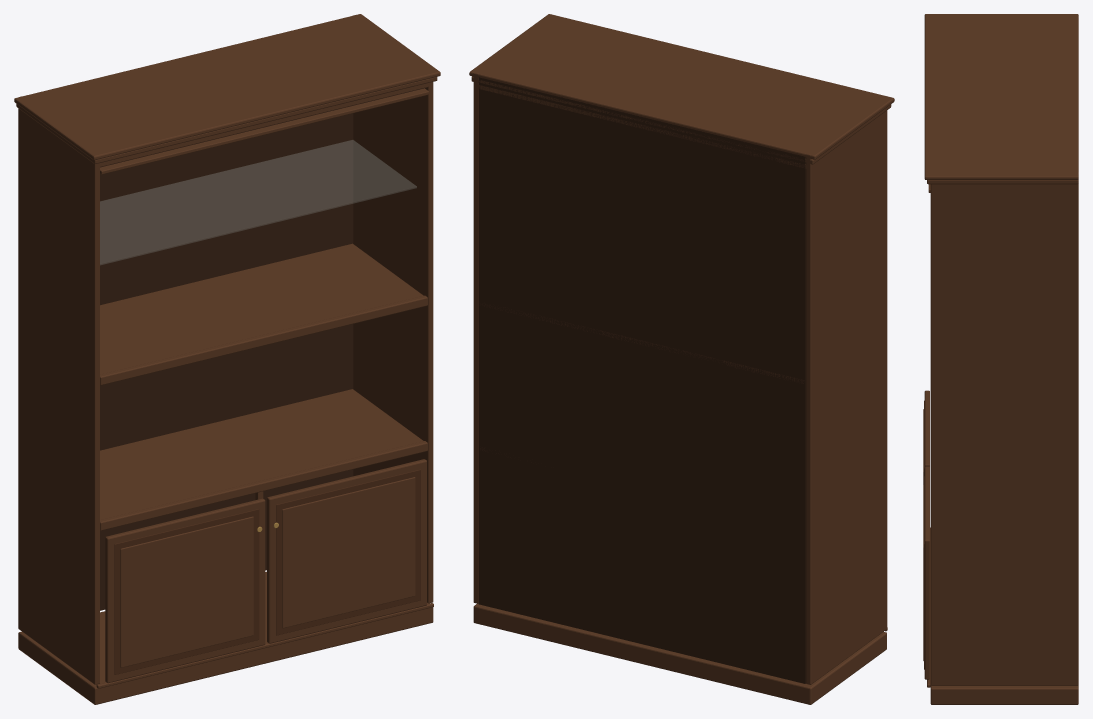
File: TuTV_Dung.glb
3 views of the same model, side by side, from view 1: azimuth 30°, elevation 25°; view 2: azimuth 150°, elevation 25°; view 3: azimuth 270°, elevation 25° (orthographic). The views are drawn at different scales.
Visible parts, largest first — view 1: geometry_0; view 2: geometry_0; view 3: geometry_0.
Boxes of the visible parts, x1=… form: geometry_0: x1=14, y1=14, x2=440, y2=704; geometry_0: x1=469, y1=14, x2=894, y2=704; geometry_0: x1=923, y1=14, x2=1078, y2=704.
Size of the model in its own units: 1.25 by 1.9 by 0.5045.
